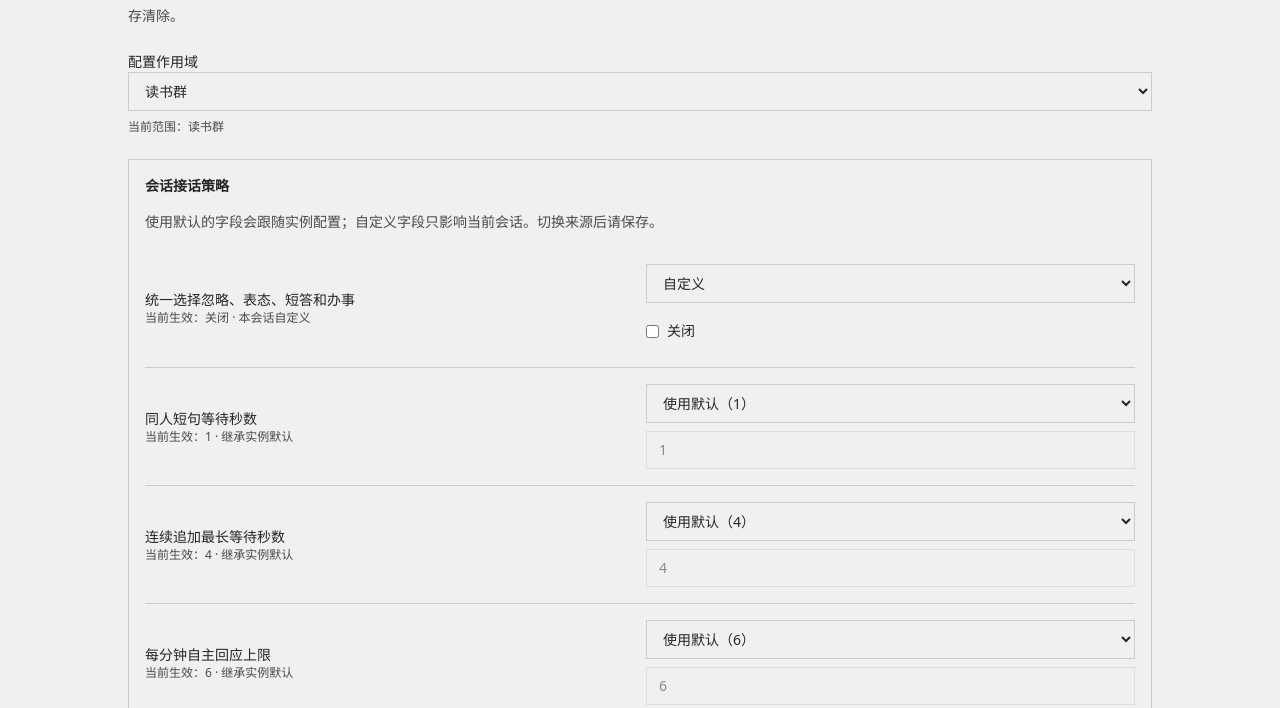
Test: 实例默认与逐项继承的读写合同 › 自定义与默认数值相同仍是需要保存的来源变更，单项切回默认只删除该来源
Expected: the checkbox labelled "统一选择忽略、表态、短答和办事" is shown, [646,324,659,338]
Select "自定义" in the 3rd dropdown at (890, 404), box [646,384,1135,423]
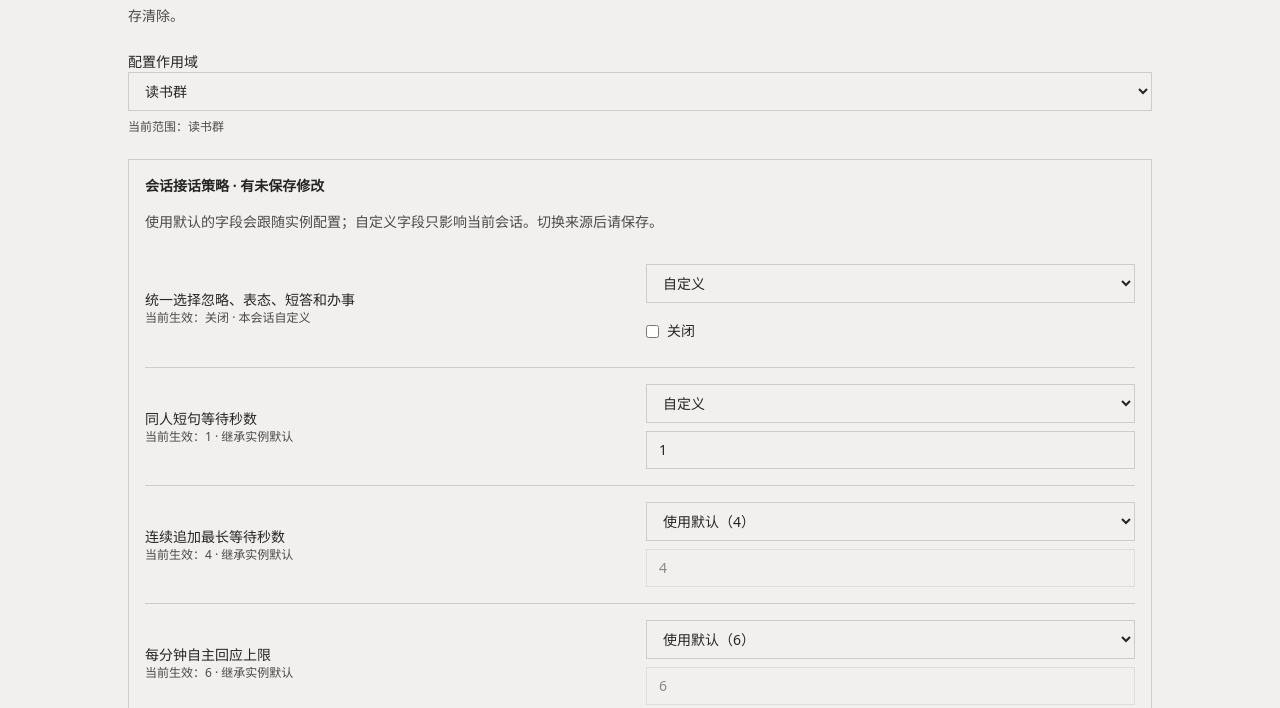
Select "使用默认（开启）" in the 2nd dropdown at (890, 284), box [646,264,1135,303]
(page scrolled)
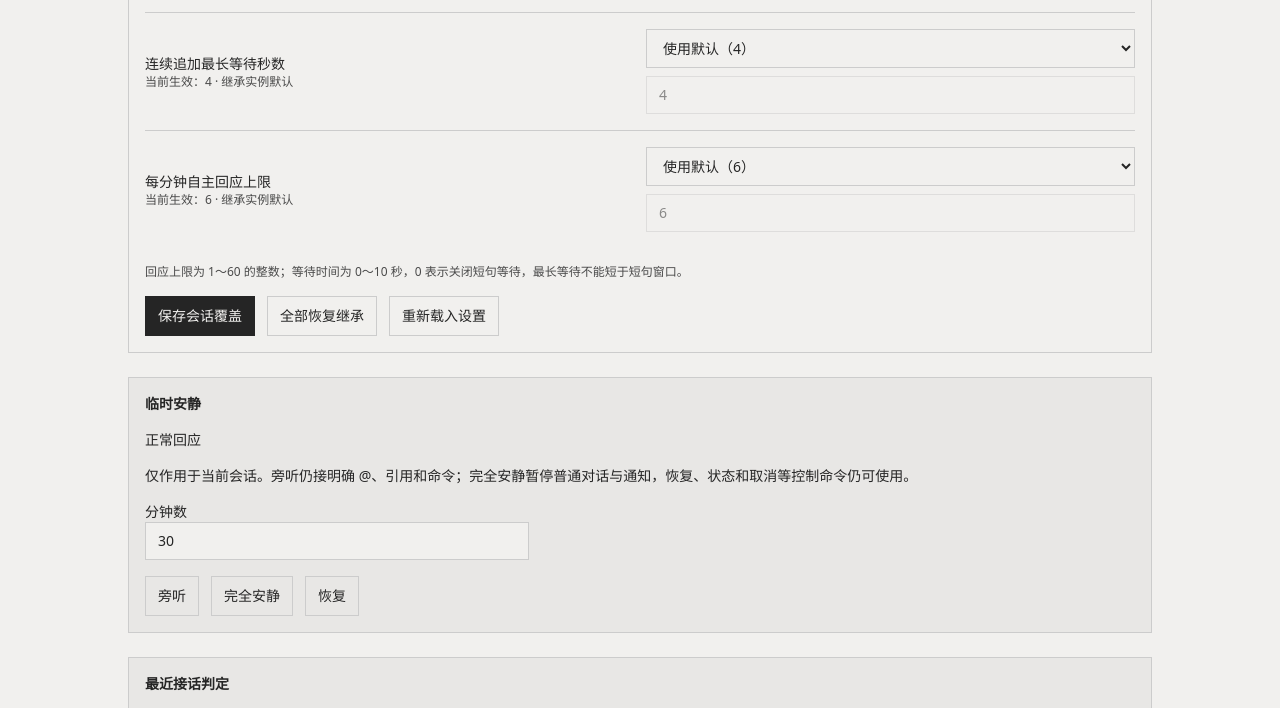
Click the button "保存会话覆盖" at (200, 316), box [145,296,255,336]
(page scrolled)
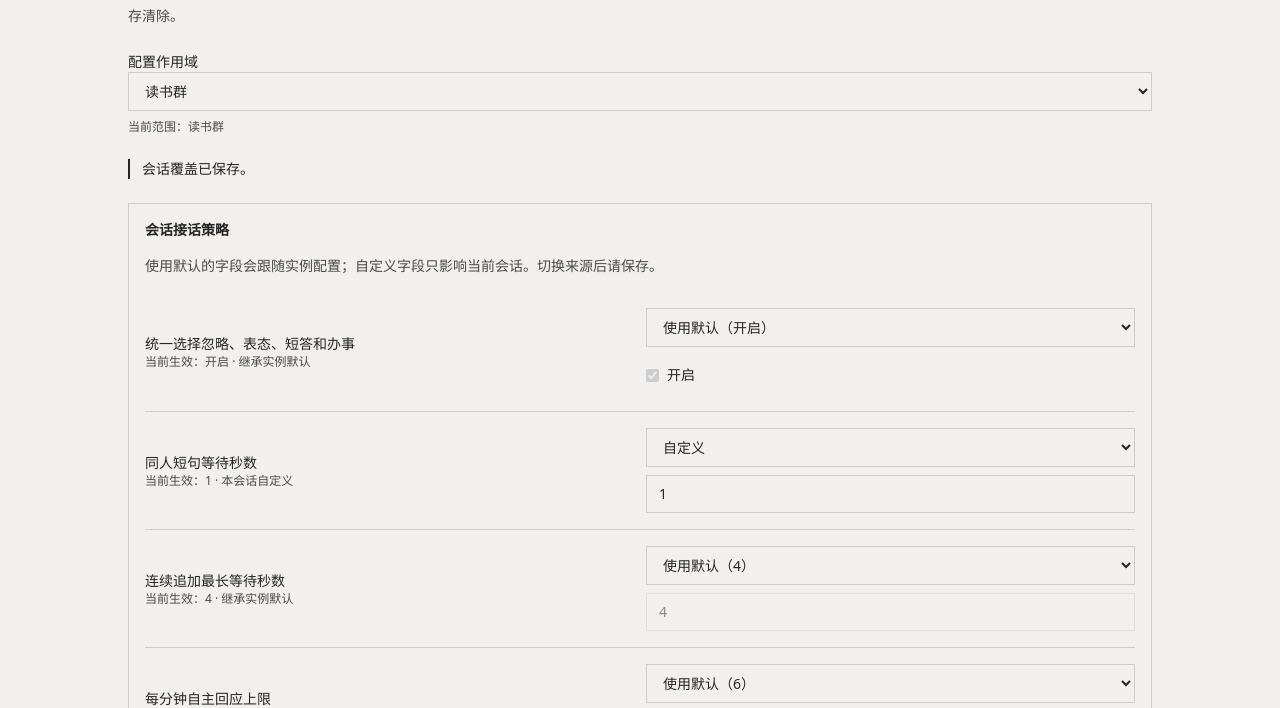
Expected: the text "会话覆盖已保存。" is shown, [128,159,1152,179]
